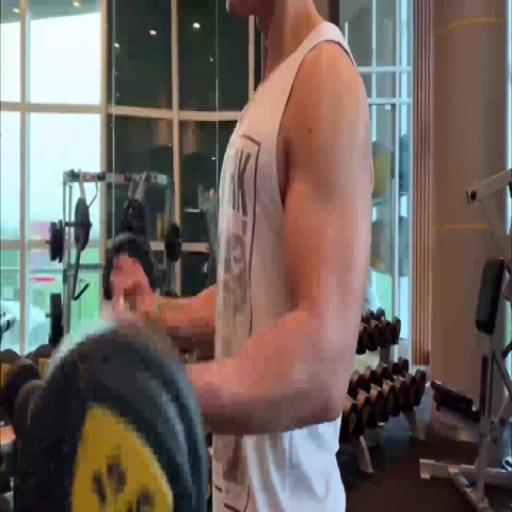exercise: (0, 13, 421, 512)
